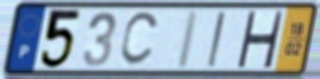3: (81, 11, 118, 68)
5: (38, 7, 85, 71)
C: (117, 10, 162, 69)
H: (235, 9, 286, 70)
I: (174, 8, 202, 71), (205, 10, 227, 69)
